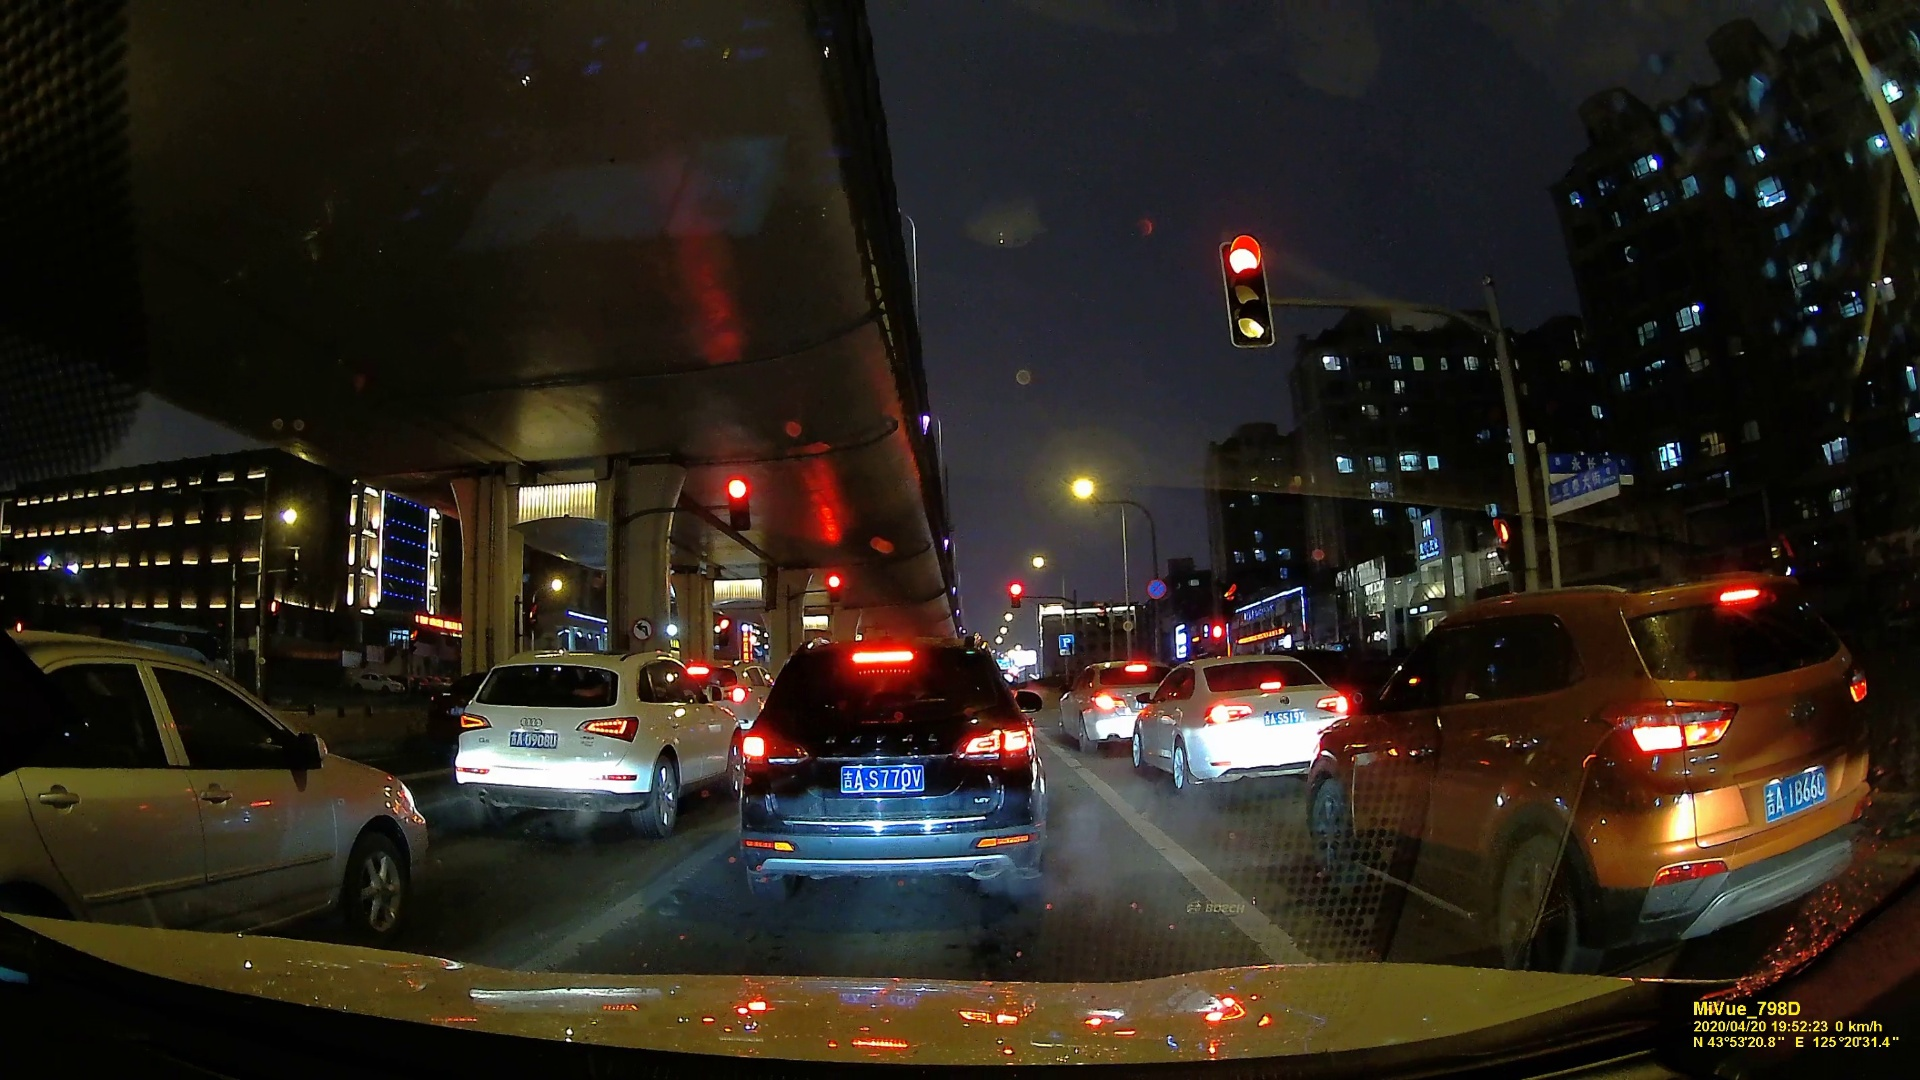traffic_sign: (1222, 235, 1279, 349), (1544, 468, 1623, 512), (1491, 513, 1520, 576), (723, 473, 749, 527), (1145, 576, 1168, 607), (824, 574, 843, 601), (1058, 634, 1076, 657), (1009, 582, 1022, 612)
vehicle: (1321, 574, 1880, 957), (1, 626, 419, 934), (731, 632, 1040, 910), (446, 646, 731, 835), (1131, 649, 1346, 794), (1062, 655, 1159, 753)
